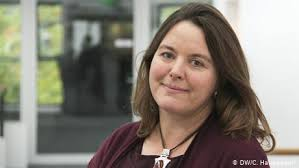middle_eastern_Female: (144, 25, 219, 104)
